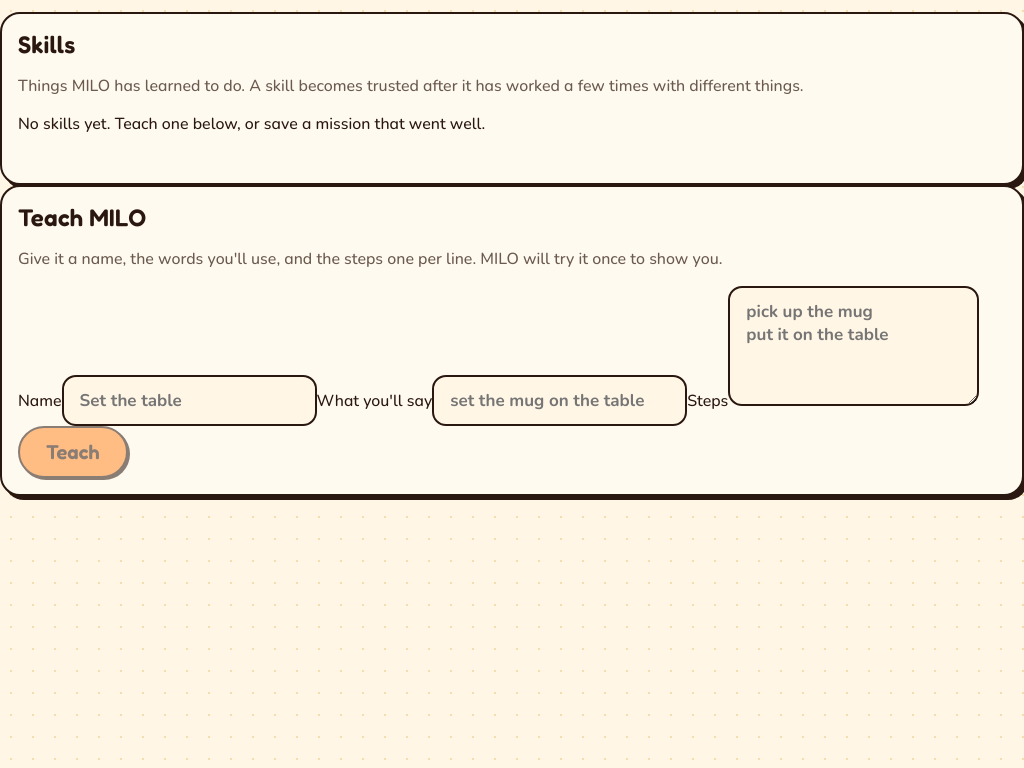
Test: SkillsPage › shows MILO's reason when it can't learn the steps
The width and height of the screenshot is (1024, 768).
Expected: the text "No skills yet" is shown, top-left (18, 113), bottom-right (485, 135)
Type "x" into the field labelled "Name" at (189, 400), box top-left (62, 375), bottom-right (317, 426)
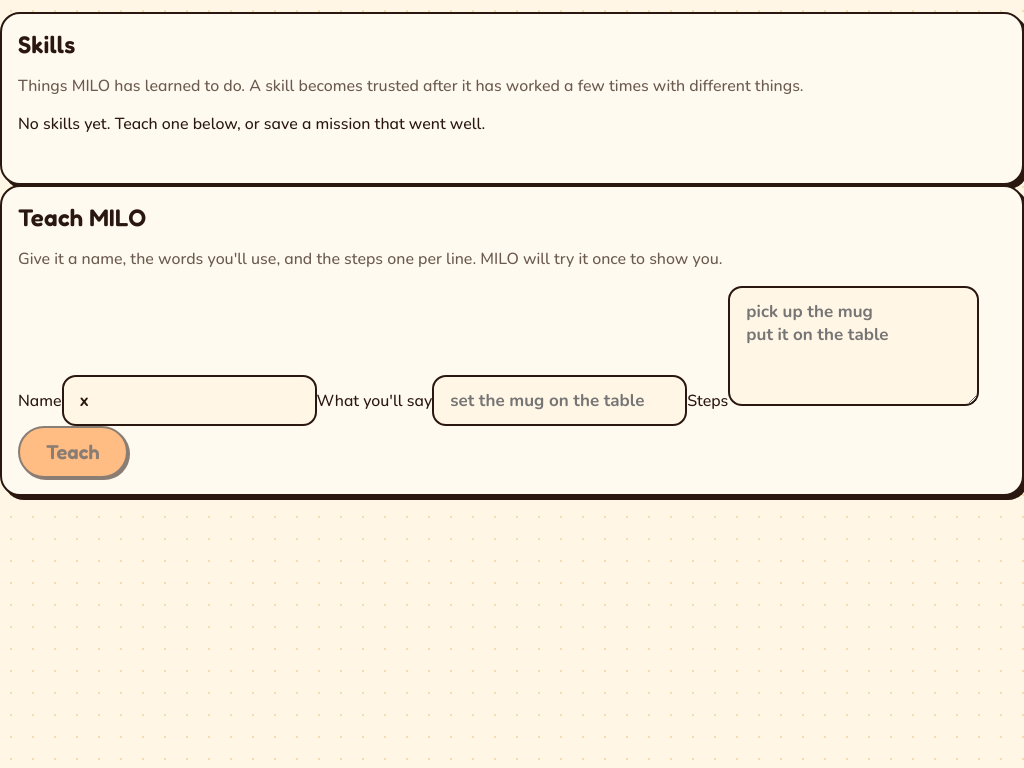
Type "x the mug" into the field labelled "What you'll say" at (560, 400), box top-left (432, 375), bottom-right (687, 426)
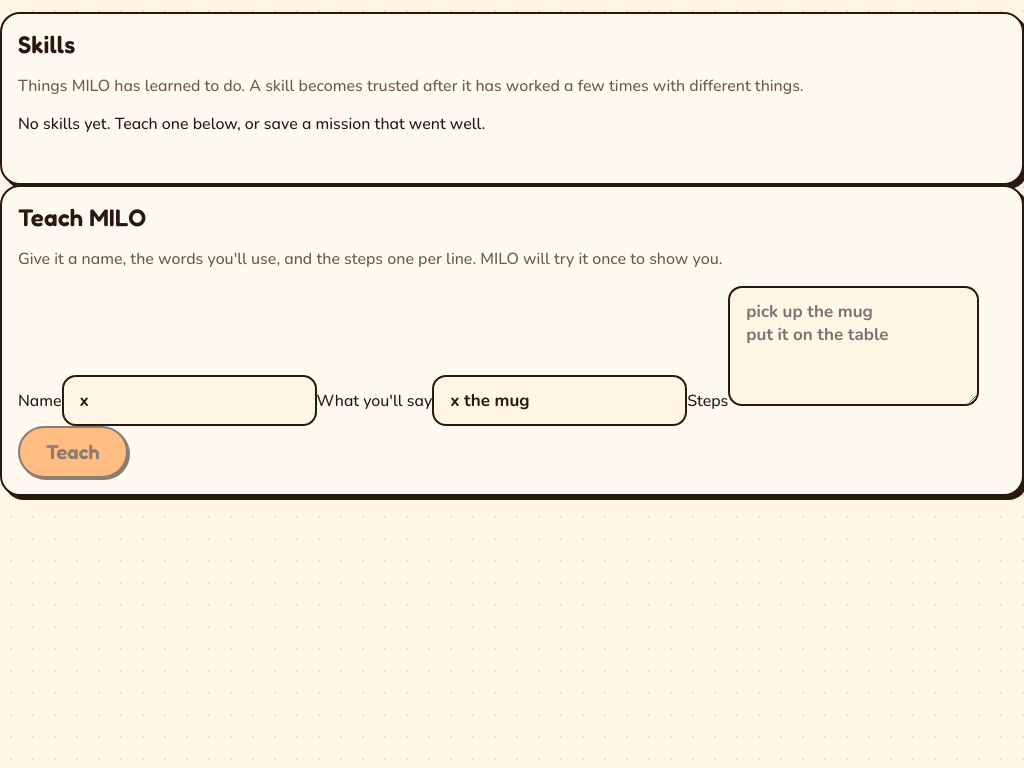
Type "juggle it" into the text box labelled "Steps" at (854, 346), box top-left (728, 286), bottom-right (979, 406)
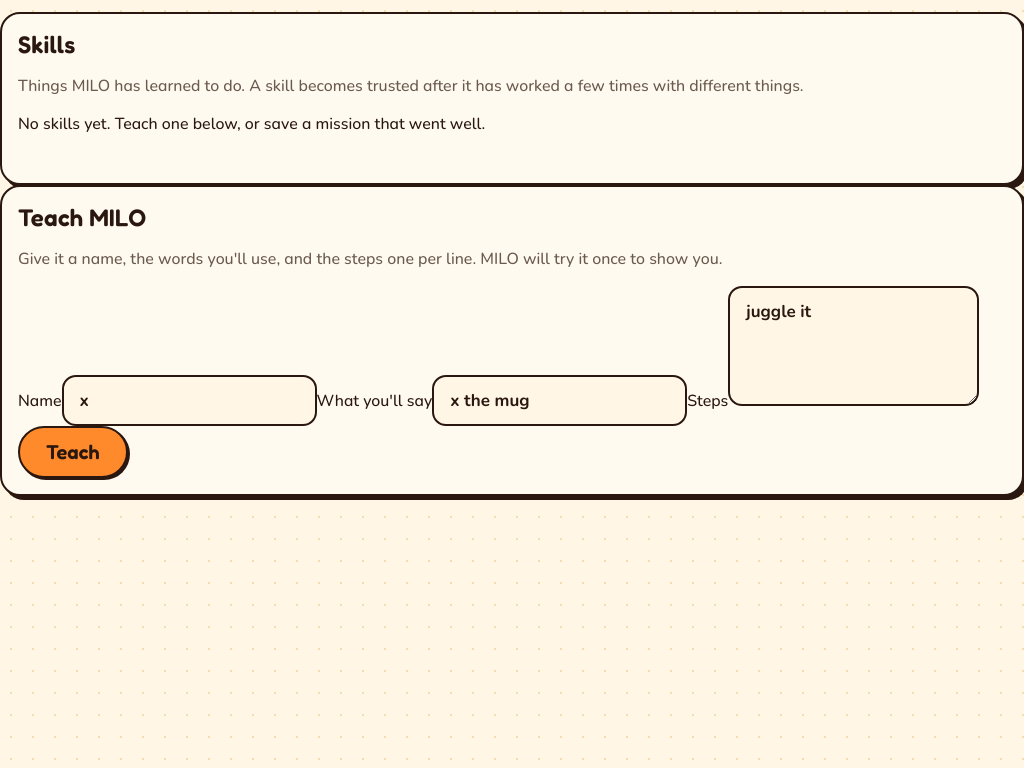
Click the button "Teach" at (73, 452), box top-left (18, 426), bottom-right (128, 478)
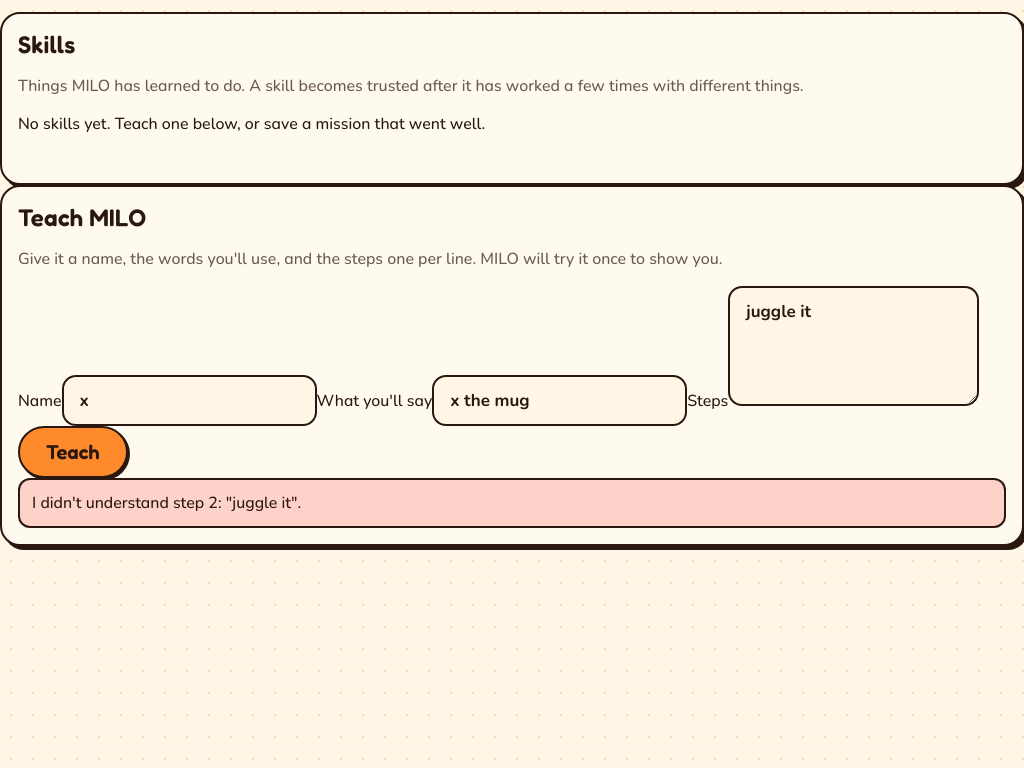
Expected: the message shows "step 2", top-left (32, 492), bottom-right (301, 514)
